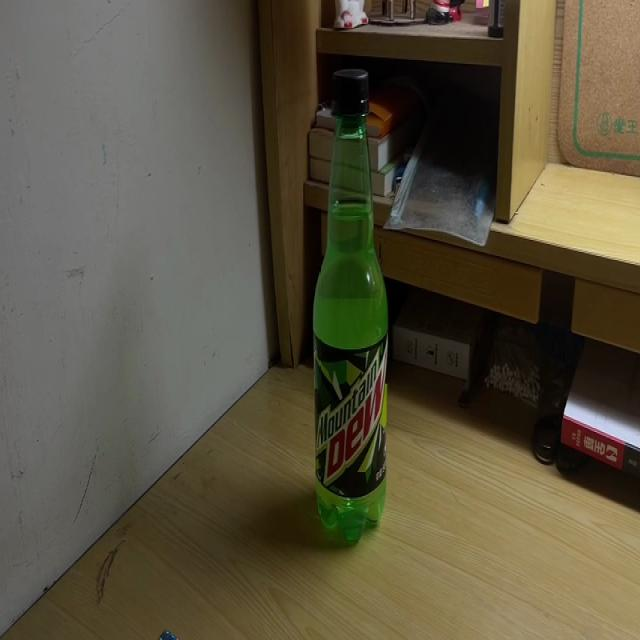Mountain-Dew: (312, 68, 390, 550)
